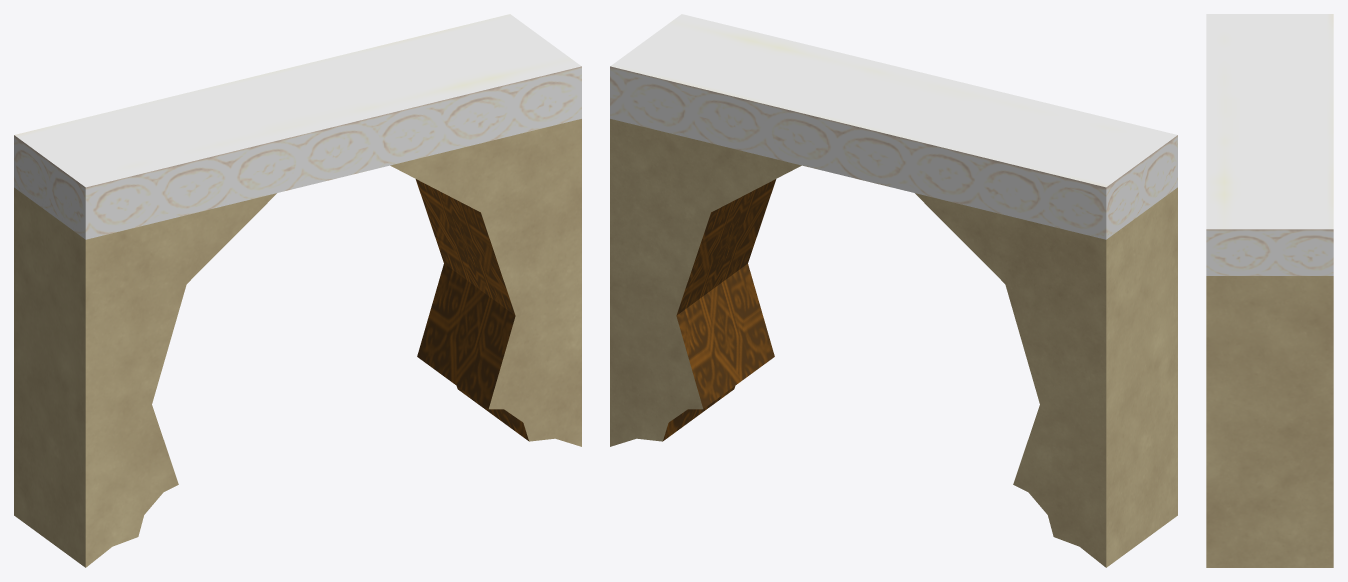
The model's file is sm_wallarch.fbx.
3 views of the same model, side by side, from view 1: azimuth 30°, elevation 25°; view 2: azimuth 150°, elevation 25°; view 3: azimuth 270°, elevation 25° (orthographic). The views are drawn at different scales.
Visible parts, largest first — view 1: Wall_Arch; view 2: Wall_Arch; view 3: Wall_Arch.
Boxes of the visible parts, bbox=[...] form: Wall_Arch: bbox=[14, 14, 581, 567]; Wall_Arch: bbox=[610, 14, 1177, 567]; Wall_Arch: bbox=[1206, 14, 1333, 567].
Bounding box in the file's own units: 2 × 1.47 × 0.5.
